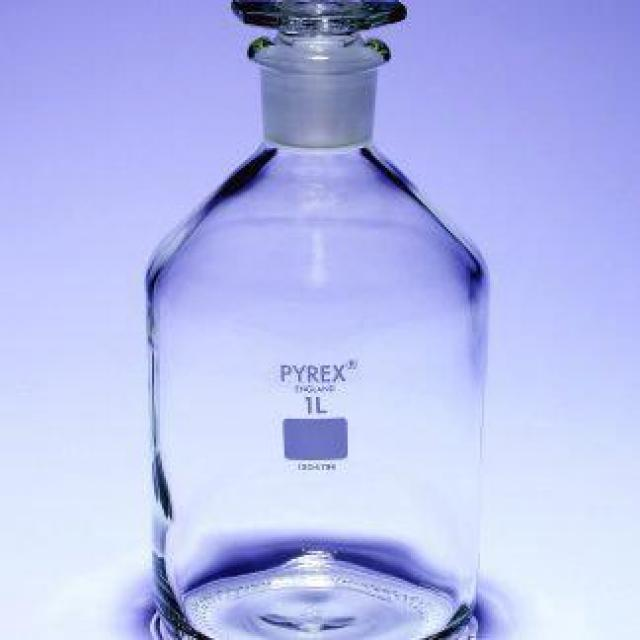non-organic waste: (134, 0, 492, 640)
